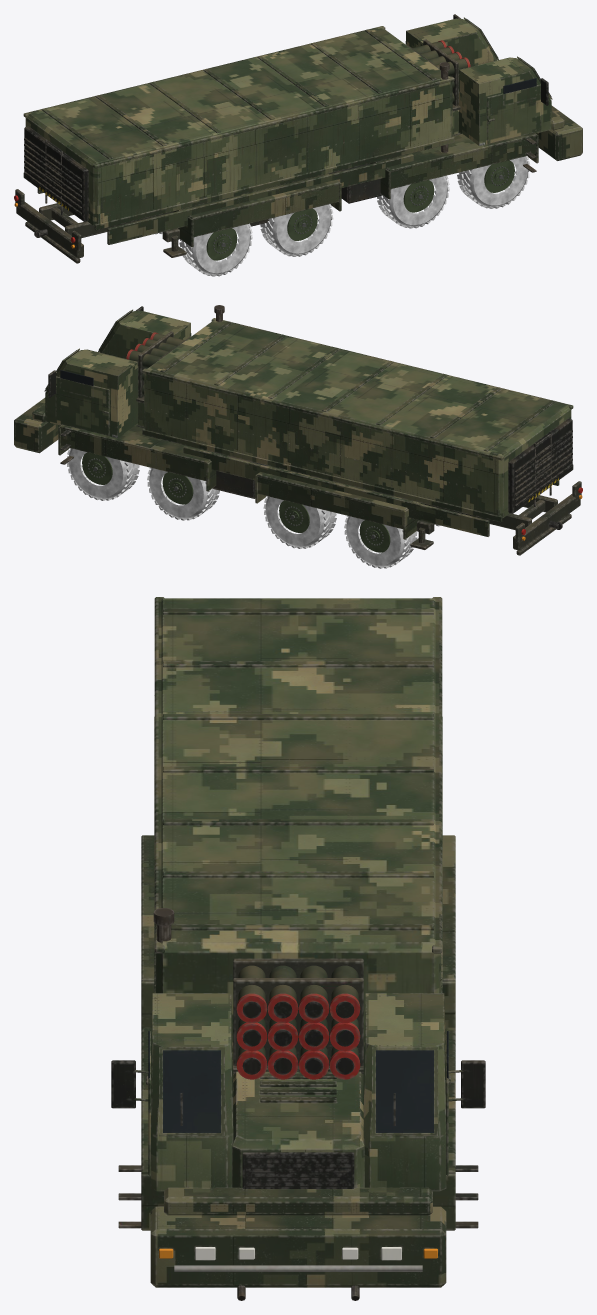
File: vilkha.glb
3 views of the same model, one above another, from view 1: azimuth 30°, elevation 25°; view 2: azimuth 150°, elevation 25°; view 3: azimuth 270°, elevation 25° (orthographic). The views are drawn at different scales.
Parts seen in each view (by area): view 1: housing, chassis, cab, tyres, rims, wheel_bolts; view 2: housing, chassis, cab, tyres, rims, wheel_bolts; view 3: housing, cab, chassis.
Part boxes in pixels (x1=…): housing: x1=23, y1=26, x2=470, y2=244; chassis: x1=14, y1=62, x2=538, y2=263; cab: x1=405, y1=14, x2=582, y2=160; tyres: x1=155, y1=156, x2=530, y2=276; rims: x1=206, y1=160, x2=514, y2=260; wheel_bolts: x1=213, y1=166, x2=509, y2=253; housing: x1=126, y1=318, x2=573, y2=536; chassis: x1=58, y1=305, x2=582, y2=555; cab: x1=14, y1=306, x2=191, y2=453; tyres: x1=67, y1=448, x2=440, y2=568; rims: x1=82, y1=452, x2=390, y2=552; wheel_bolts: x1=87, y1=458, x2=383, y2=545; housing: x1=154, y1=597, x2=442, y2=1079; cab: x1=111, y1=993, x2=485, y2=1287; chassis: x1=118, y1=835, x2=478, y2=1300.
Bounding box in the file's own units: 11.55 × 3.33 × 3.62.
Materials: 6 (6 with a texture image).
